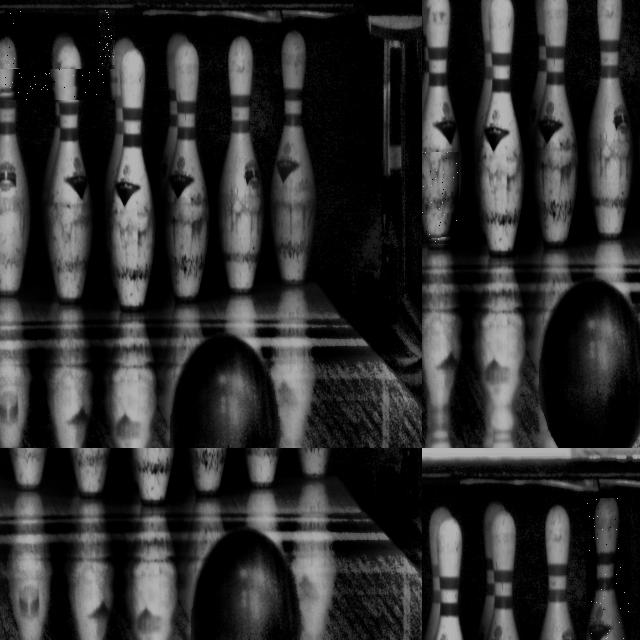bowling-ball: (422, 153, 459, 242)
bowling-pins: (590, 499, 629, 640), (540, 504, 576, 640), (487, 510, 520, 640), (476, 500, 504, 640), (423, 505, 451, 640), (434, 516, 464, 640), (5, 11, 21, 68), (100, 11, 114, 68)
sweep board: (0, 69, 115, 96)
